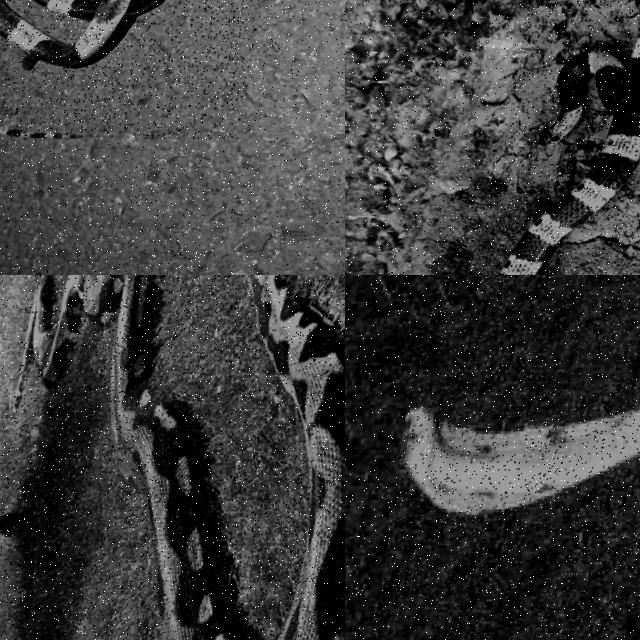Bungarus candidus: (499, 36, 639, 274), (0, 0, 156, 65)
Malayopython reticulatus: (11, 275, 250, 639)
Naja kaouthia: (403, 407, 639, 511)
snake: (11, 275, 250, 639), (499, 36, 639, 274), (403, 407, 639, 511), (0, 0, 156, 65)
